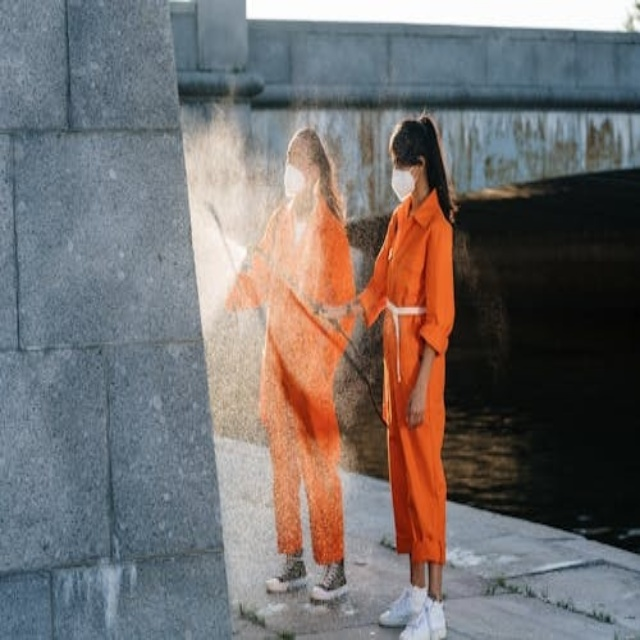Mascara: (391, 165, 419, 202), (284, 163, 308, 199)
Sin_guantes: (403, 371, 433, 427)
